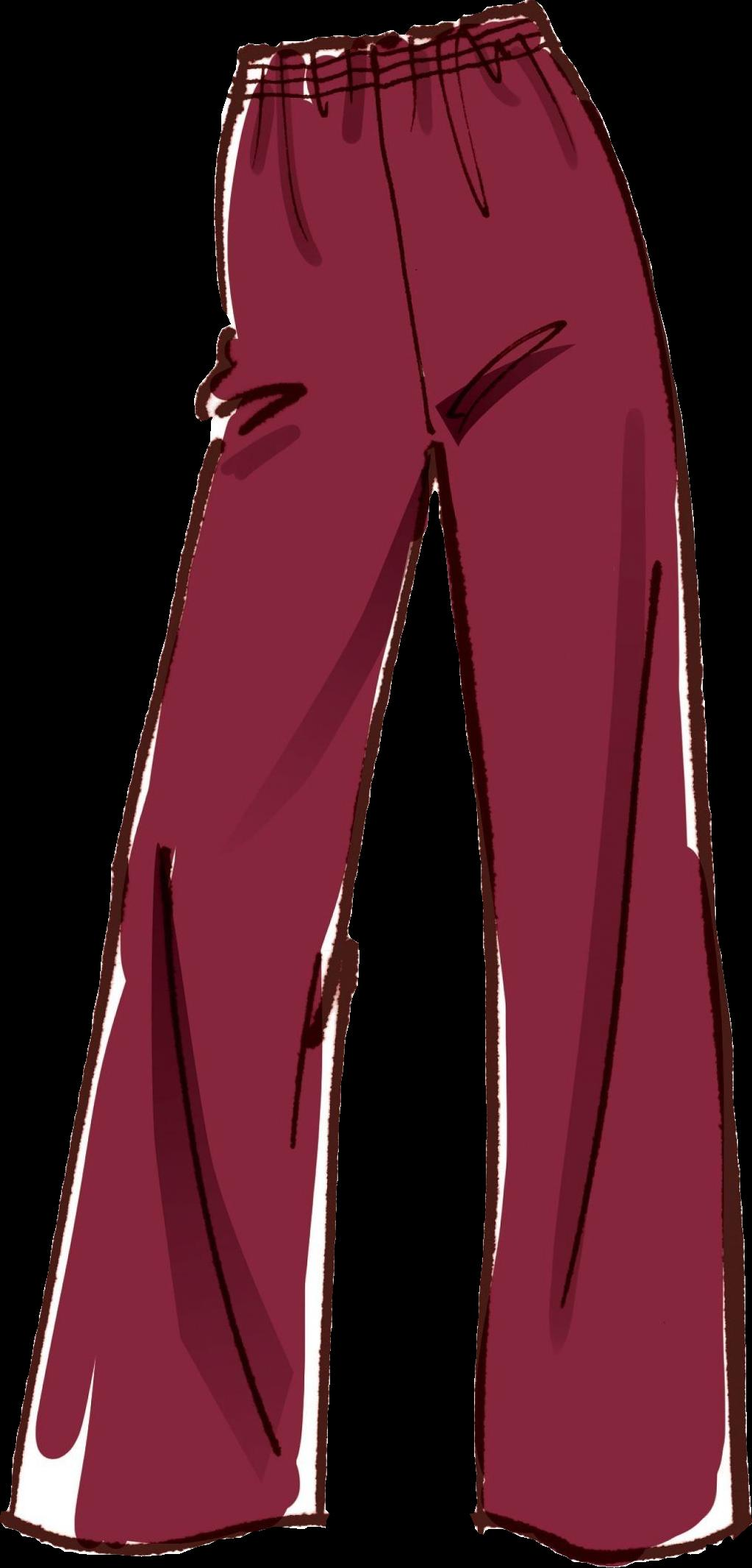Hemline: (1, 1510, 340, 1558), (473, 1515, 751, 1567)
Pantleg: (0, 34, 430, 1553), (371, 0, 750, 1561)
Waistline: (223, 35, 562, 107), (236, 0, 546, 65)
